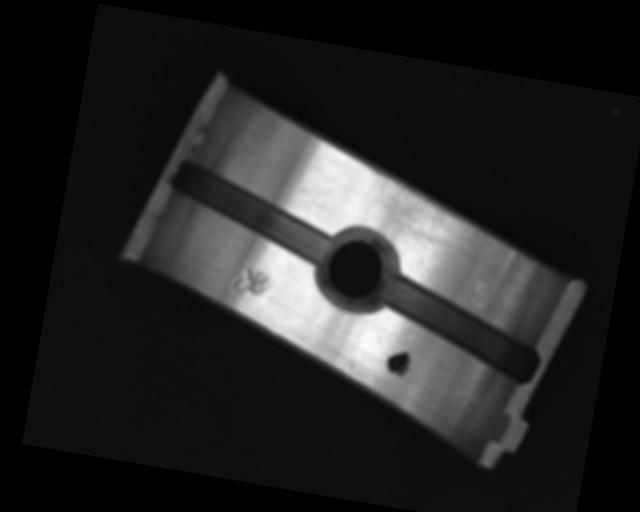blot: (384, 348, 413, 379)
bruise: (231, 263, 274, 300), (469, 278, 490, 312)
gap: (370, 275, 548, 386), (161, 159, 340, 266)
hole: (311, 223, 405, 317)
scratch: (353, 164, 502, 257)
